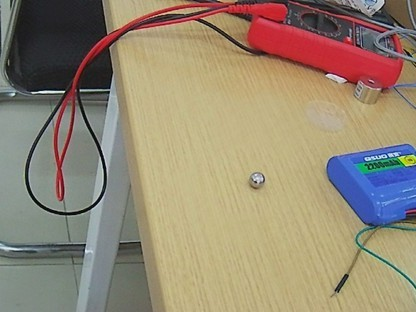ironball: (242, 166, 268, 191)
